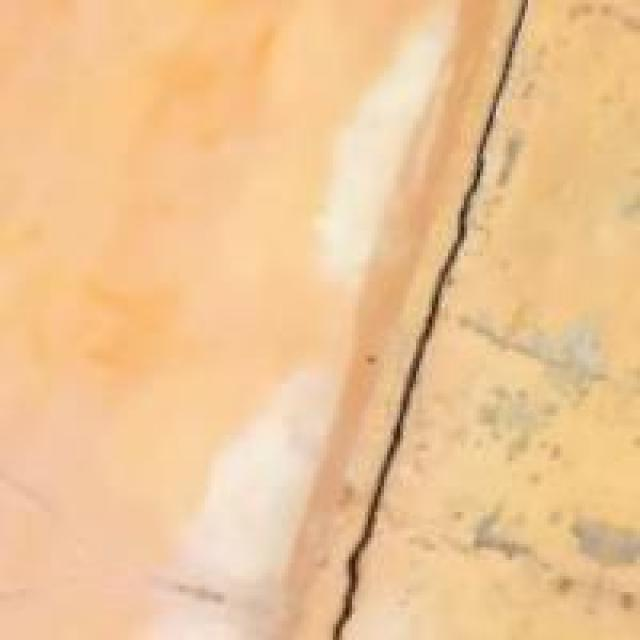Crack: (346, 0, 540, 637)
